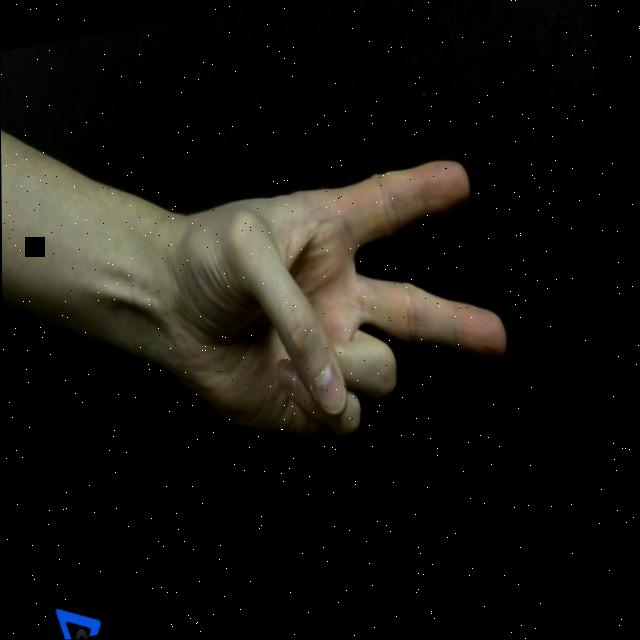Scissors: (140, 157, 517, 472)
